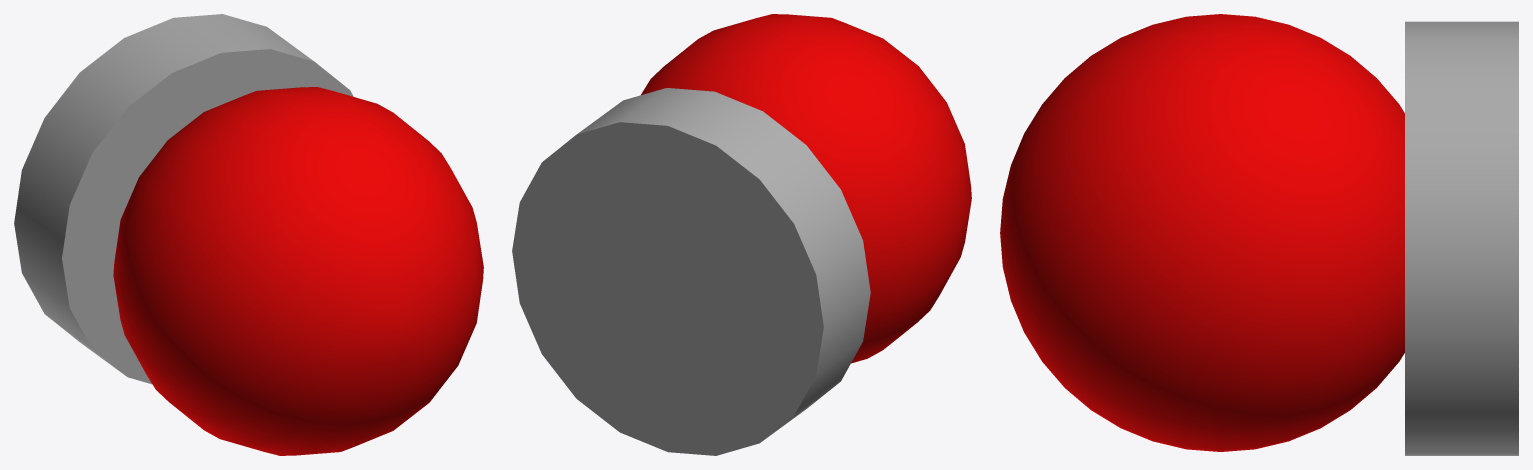
File: lightbulb.fbx
3 renders of one model, left to right at view 1: azimuth 30°, elevation 25°; view 2: azimuth 150°, elevation 25°; view 3: azimuth 270°, elevation 25°, orthographic. The views are drawn at different scales.
Visible parts, largest first — view 1: lightbulb, lightbulbpart; view 2: lightbulbpart, lightbulb; view 3: lightbulb, lightbulbpart.
Part boxes in pixels (bbox=[...]): lightbulb: bbox=[113, 87, 483, 455]; lightbulbpart: bbox=[14, 14, 353, 384]; lightbulbpart: bbox=[512, 88, 870, 455]; lightbulb: bbox=[641, 14, 971, 363]; lightbulb: bbox=[1000, 14, 1404, 451]; lightbulbpart: bbox=[1405, 21, 1518, 455].
Bounding box in the file's own units: 0.8021 × 0.8103 × 0.9429.
